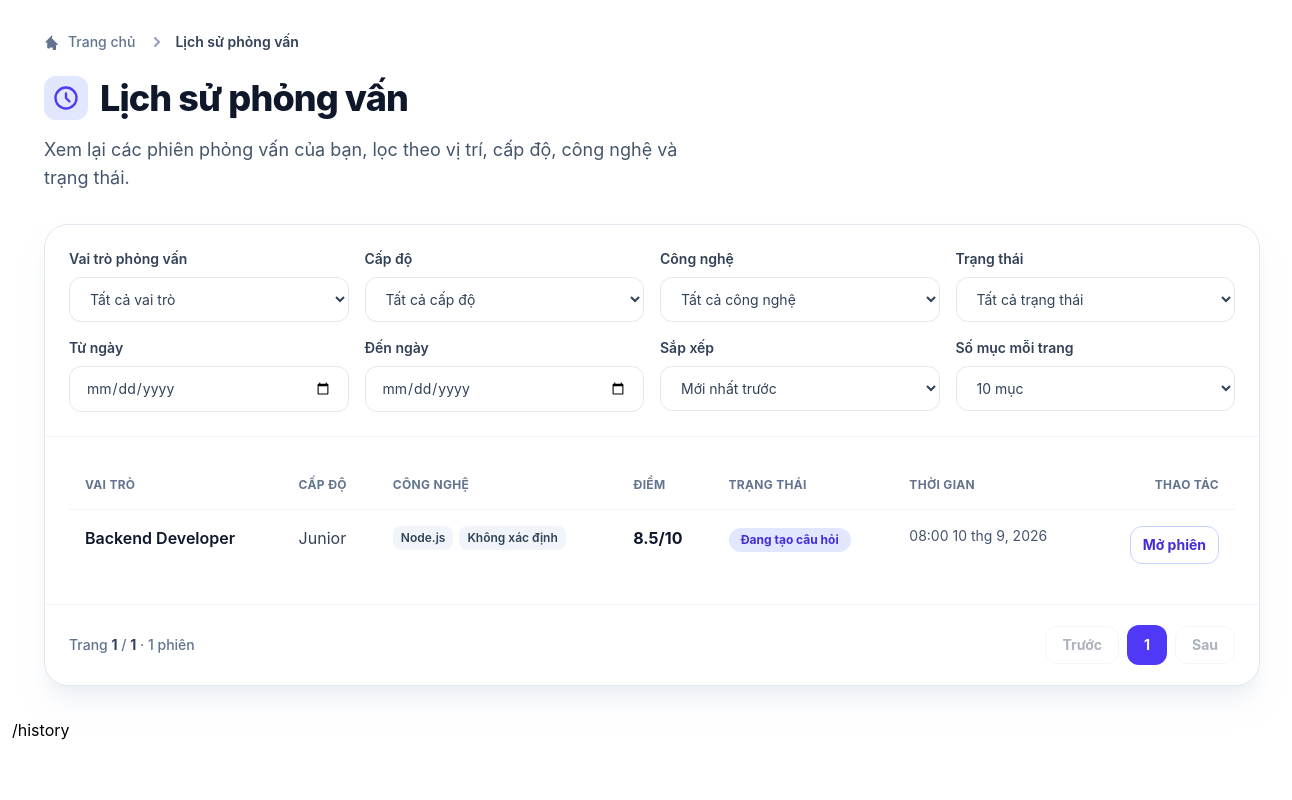
Scenario: HistoryPage › navigates GENERATING to its interview session using item.sessionId
The image size is (1292, 800).
Expected: the cell "Đang tạo câu hỏi" is shown, [712,510,893,580]
Click the button "Mở phiên". click: (1174, 545)
box: [1130,526,1219,564]
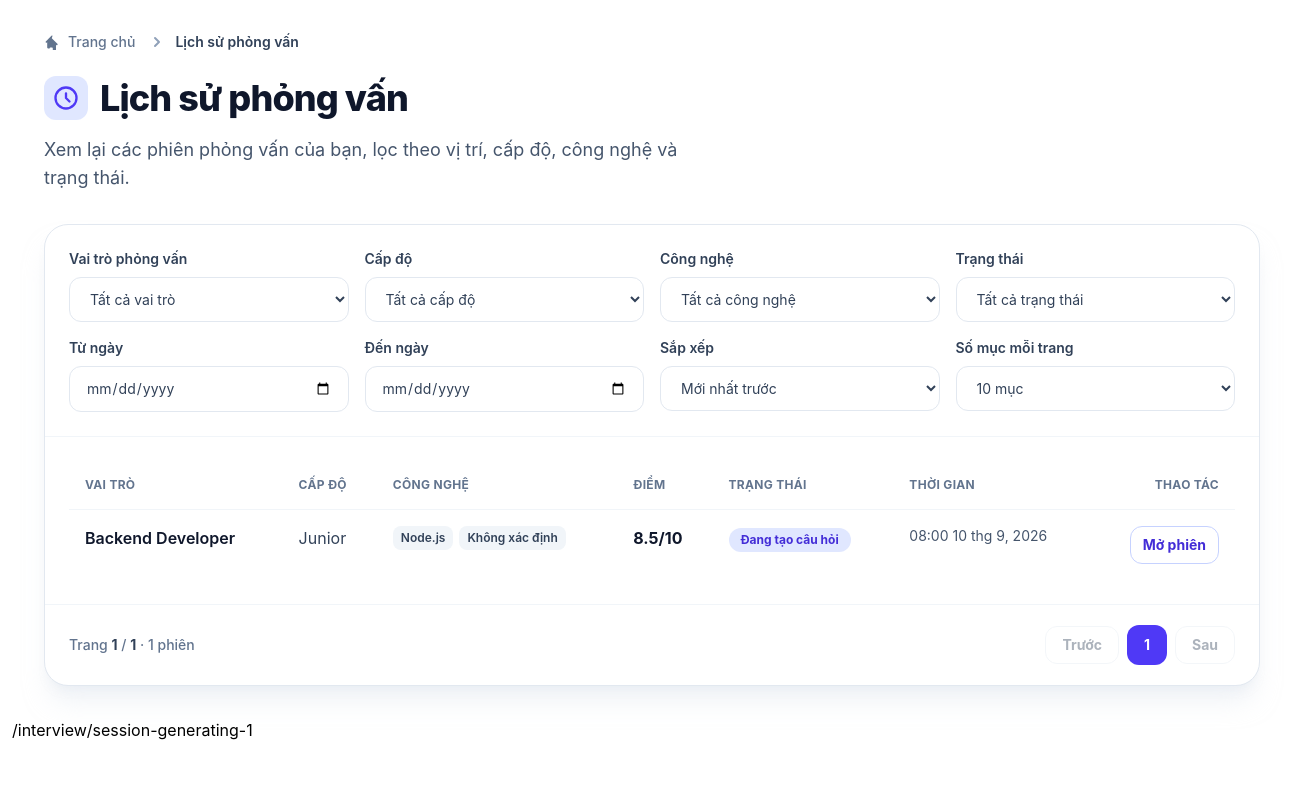
Expected: the text with test id "location" reads "/interview/session-generating-1", [12,720,253,740]
